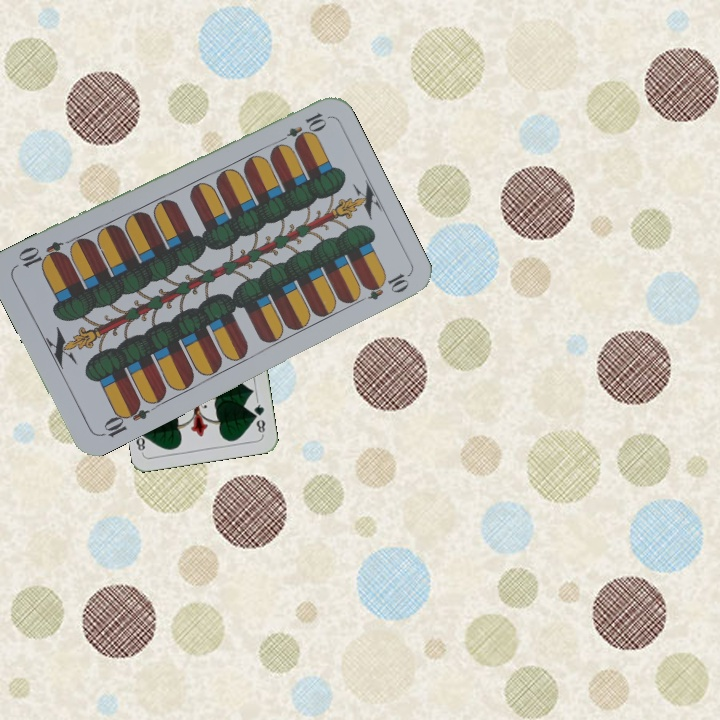E10: (96, 397, 151, 440), (273, 108, 329, 148)
G8: (249, 397, 268, 437)
